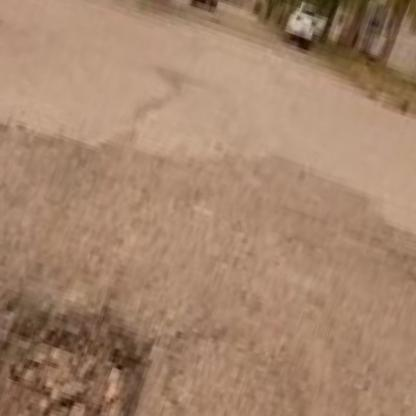pothole: (0, 270, 164, 416)
